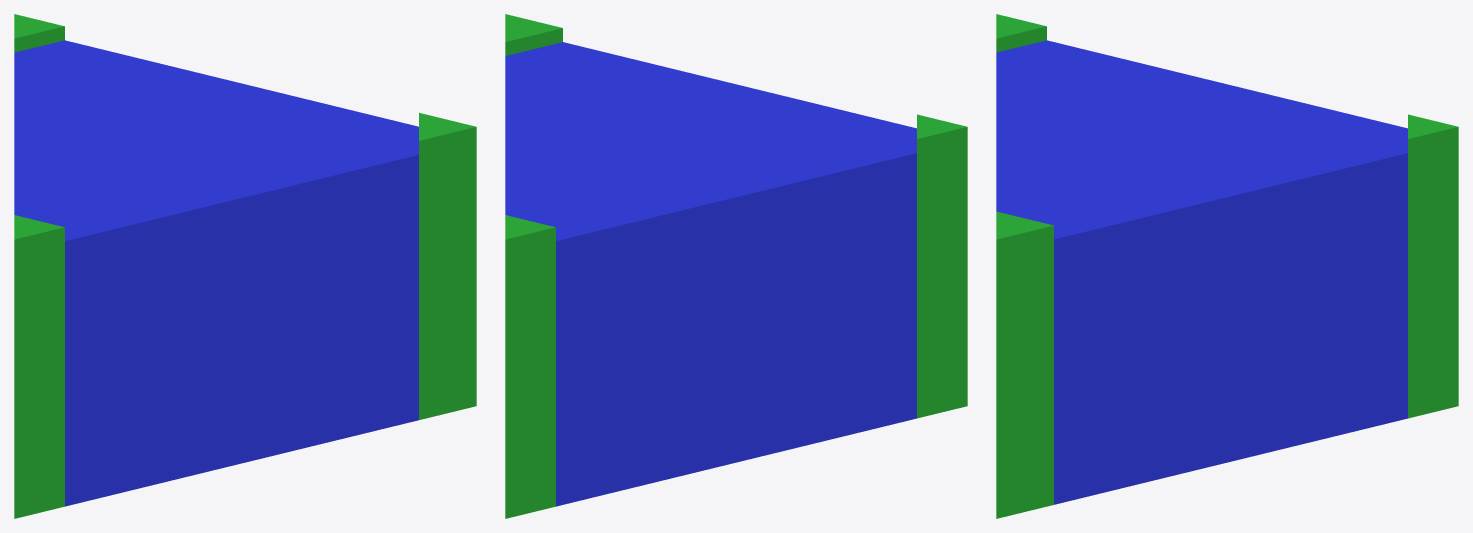
File: module-face_river_fork.glb
3 renders of one model, left to right at view 1: azimuth 30°, elevation 25°; view 2: azimuth 150°, elevation 25°; view 3: azimuth 270°, elevation 25°, orthographic.
Visible parts, largest first — view 1: module-face_river_fork; view 2: module-face_river_fork; view 3: module-face_river_fork.
Part boxes in pixels (x1,y1,x2,y2): module-face_river_fork: (14, 14, 476, 518); module-face_river_fork: (505, 14, 967, 518); module-face_river_fork: (996, 14, 1458, 518).
Size of the model in its own units: 0.866 by 0.5 by 0.75.
